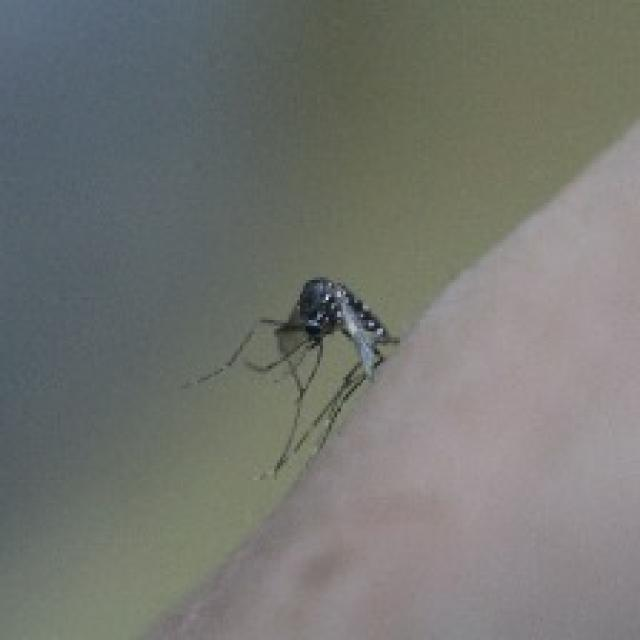aedes: (183, 271, 403, 480)
